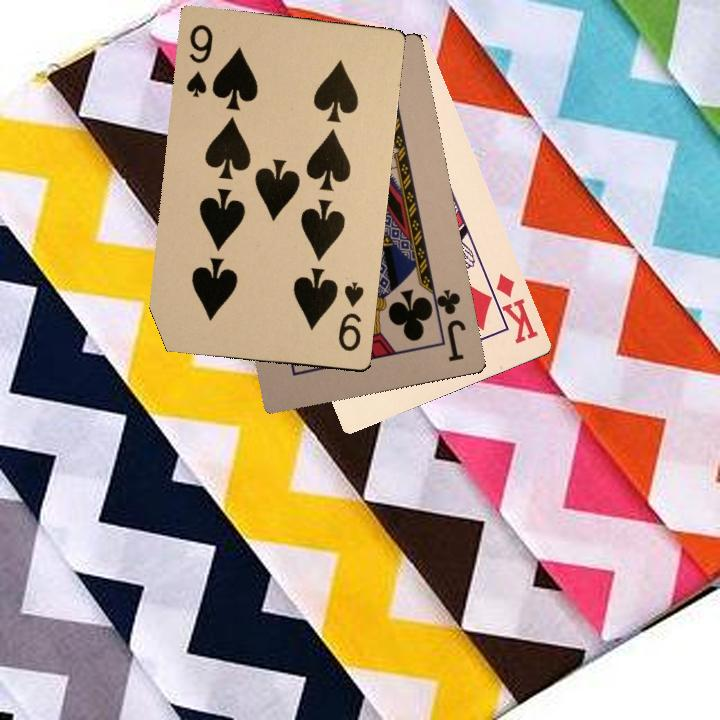9s: (182, 20, 216, 100), (334, 277, 366, 354)
Jc: (426, 285, 468, 364)
Kd: (483, 271, 541, 347)
